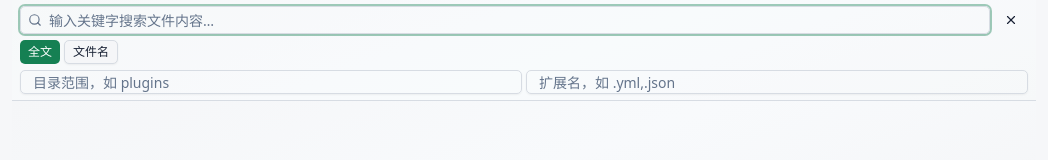
SearchPanel 索引中态（FR-113） › 用户修改 query 后，旧的索引中重试不会覆盖新查询结果
In the field with placeholder "输入关键字搜索文件内容…": [505, 20] box [20, 6, 990, 34], type "old"
Wait 1200 ms
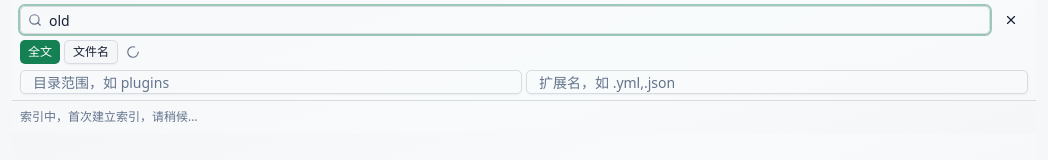
Expected: the text "索引中，首次建立索引，请稍候…" is shown, [20, 108, 198, 125]
Replace the text in the field with placeholder "输入关键字搜索文件内容…" with "new": [505, 20] box [20, 6, 990, 34]
Wait 300 ms
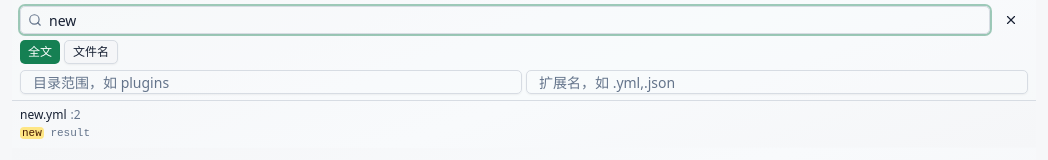
Expected: the text "new.yml" is shown, [20, 107, 67, 123]
